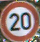20 km speed: (1, 1, 40, 40)
